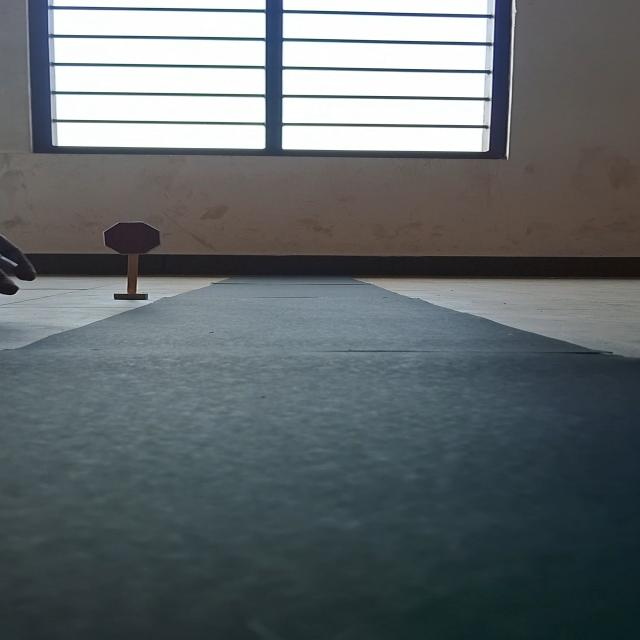Stop: (103, 221, 162, 255)
